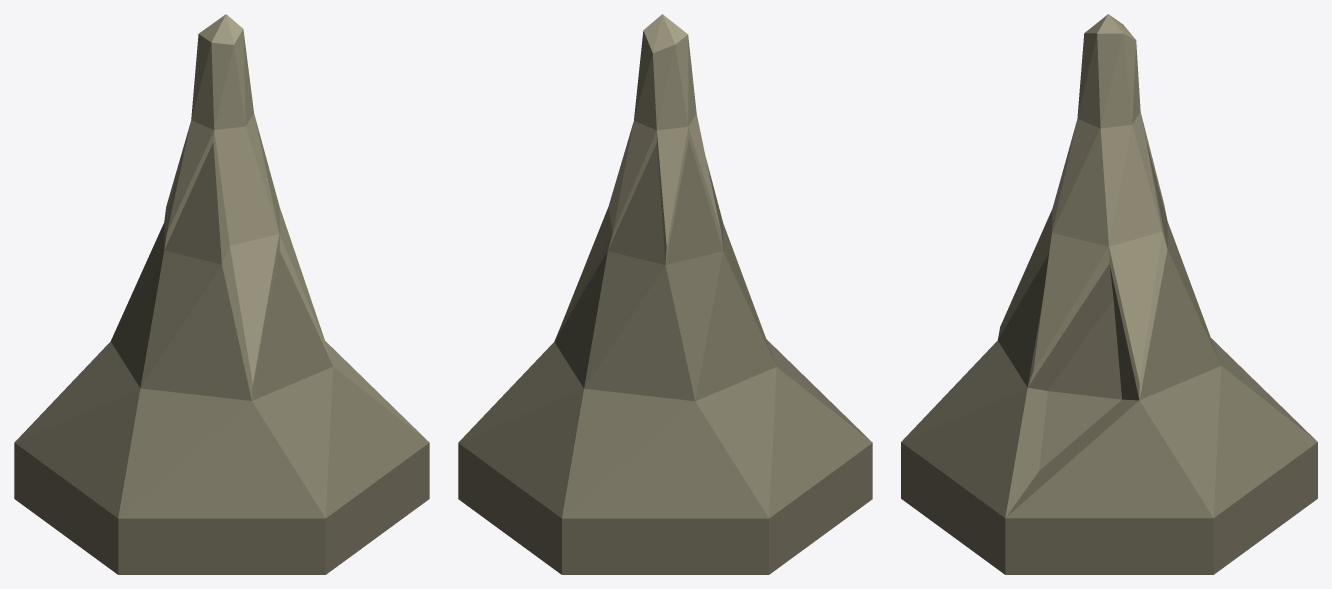
The model's file is StalackshitMedium.fbx.
3 renders of one model, left to right at view 1: azimuth 30°, elevation 25°; view 2: azimuth 150°, elevation 25°; view 3: azimuth 270°, elevation 25°, orthographic.
Parts seen in each view (by area): view 1: stalackshit.002; view 2: stalackshit.002; view 3: stalackshit.002.
Boxes of the visible parts, x1,y1,x2,y2 form: stalackshit.002: (14, 14, 429, 574); stalackshit.002: (458, 14, 872, 574); stalackshit.002: (901, 14, 1317, 574).
Bounding box in the file's own units: 1.73 × 2 × 2.58.
